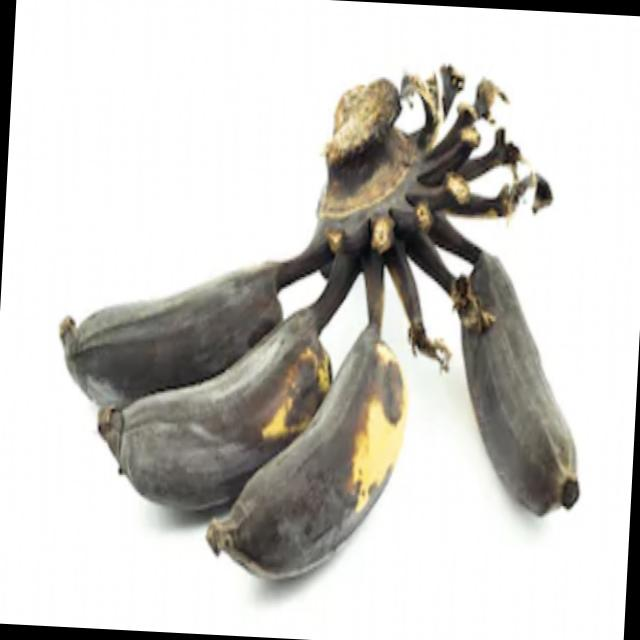rotten-banana: (234, 304, 420, 594), (111, 285, 342, 508), (450, 261, 590, 516), (64, 246, 283, 399)
